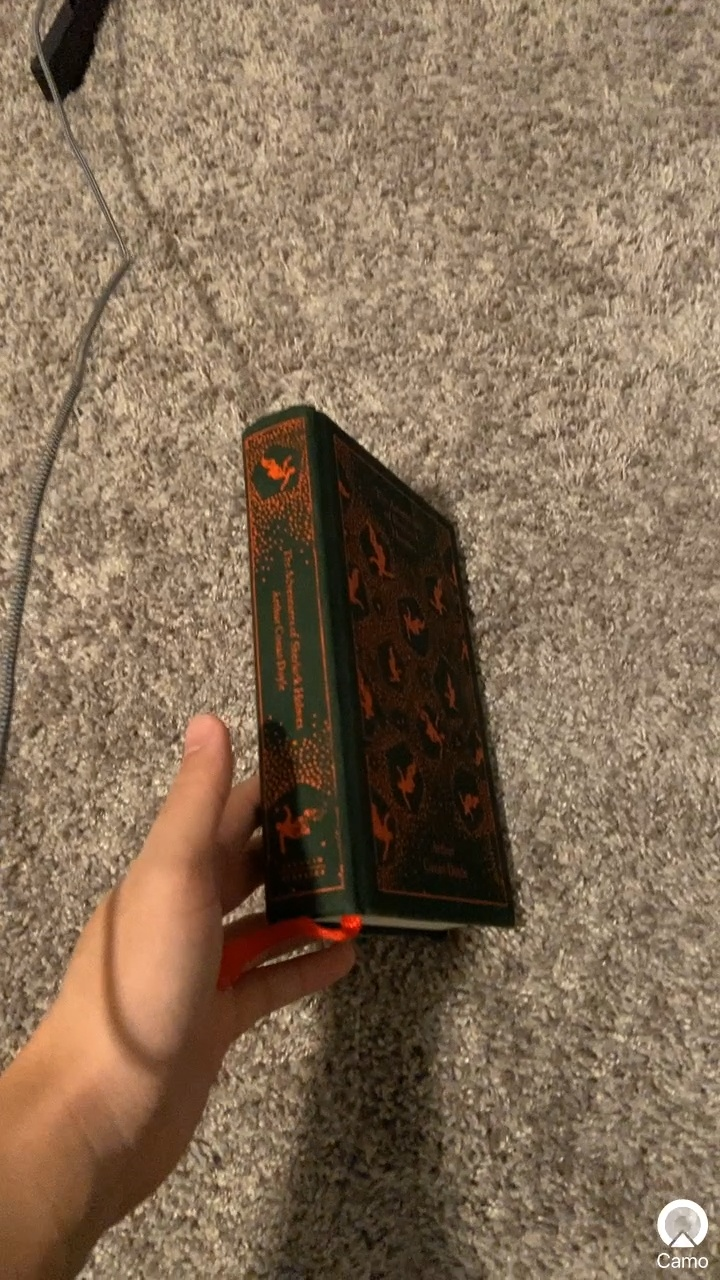Book: (187, 388, 571, 1009)
